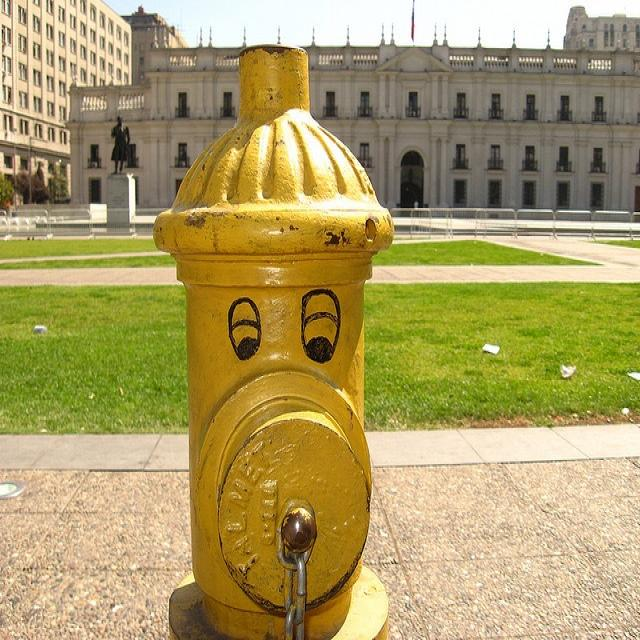fire_hydrant: (151, 40, 393, 636)
